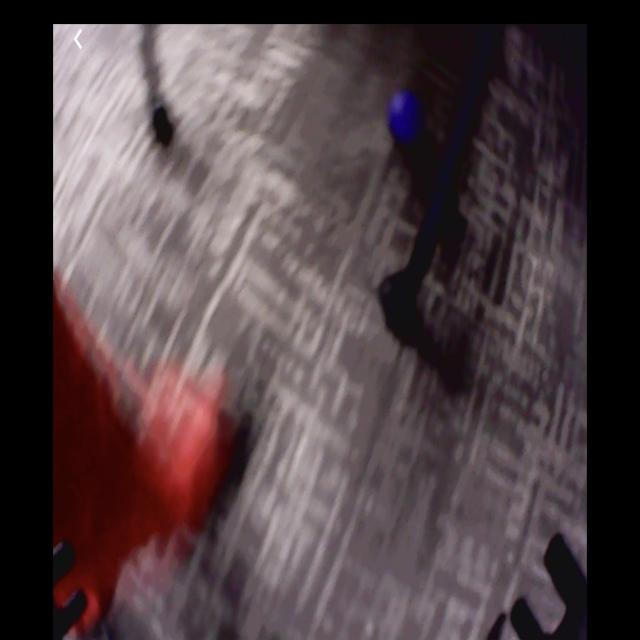ball: (389, 88, 419, 142)
